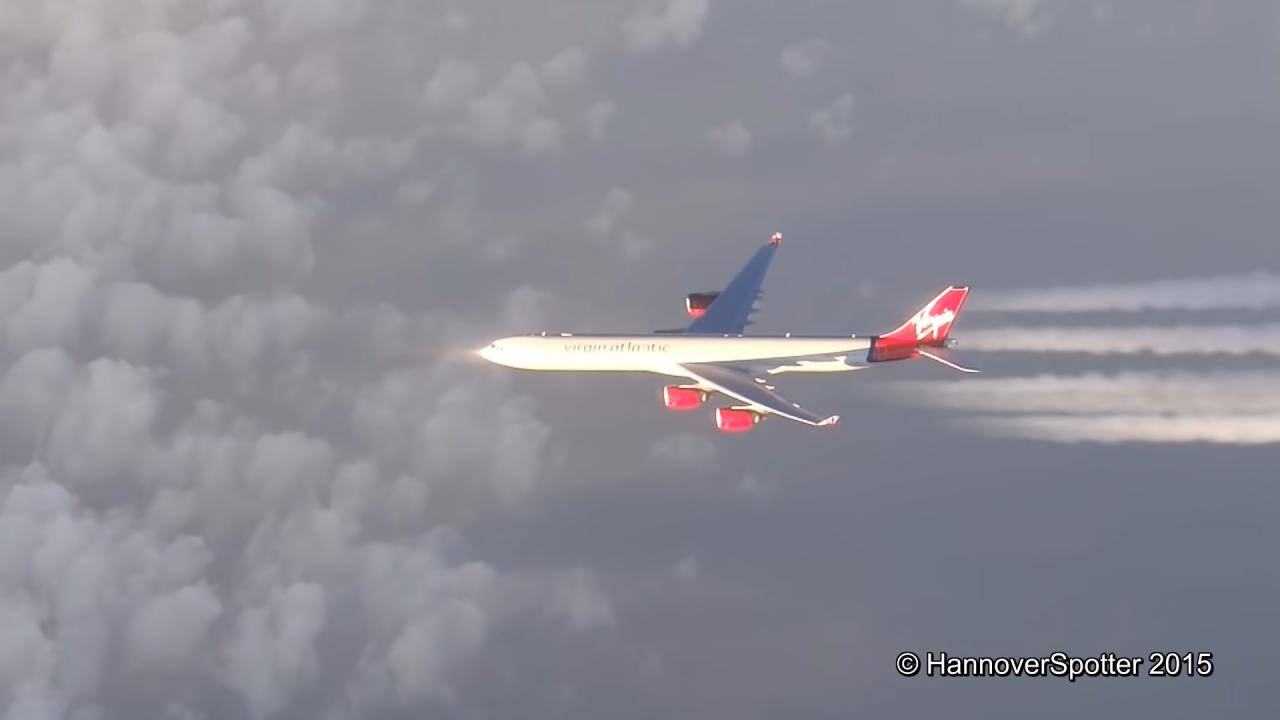Airplane: (469, 221, 992, 439)
